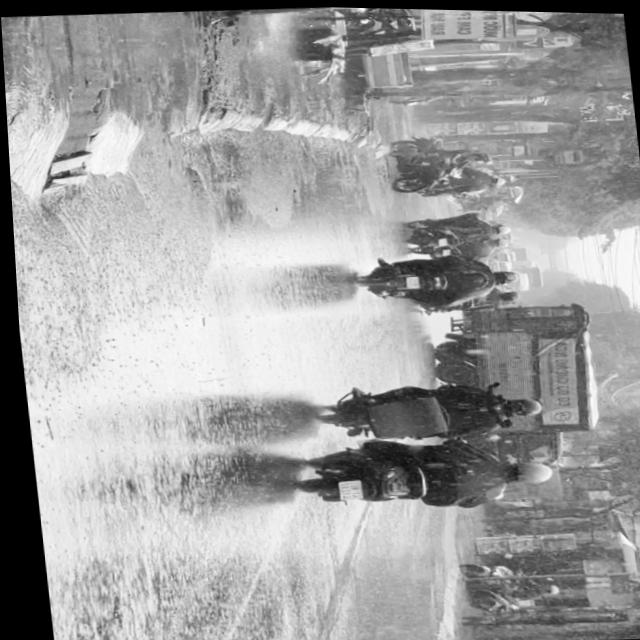helmet: (501, 457, 550, 484), (502, 393, 539, 416)
licenseplate: (278, 430, 555, 518), (302, 372, 544, 449), (349, 247, 524, 310)
nohelmet: (335, 478, 358, 499), (403, 274, 419, 287)
